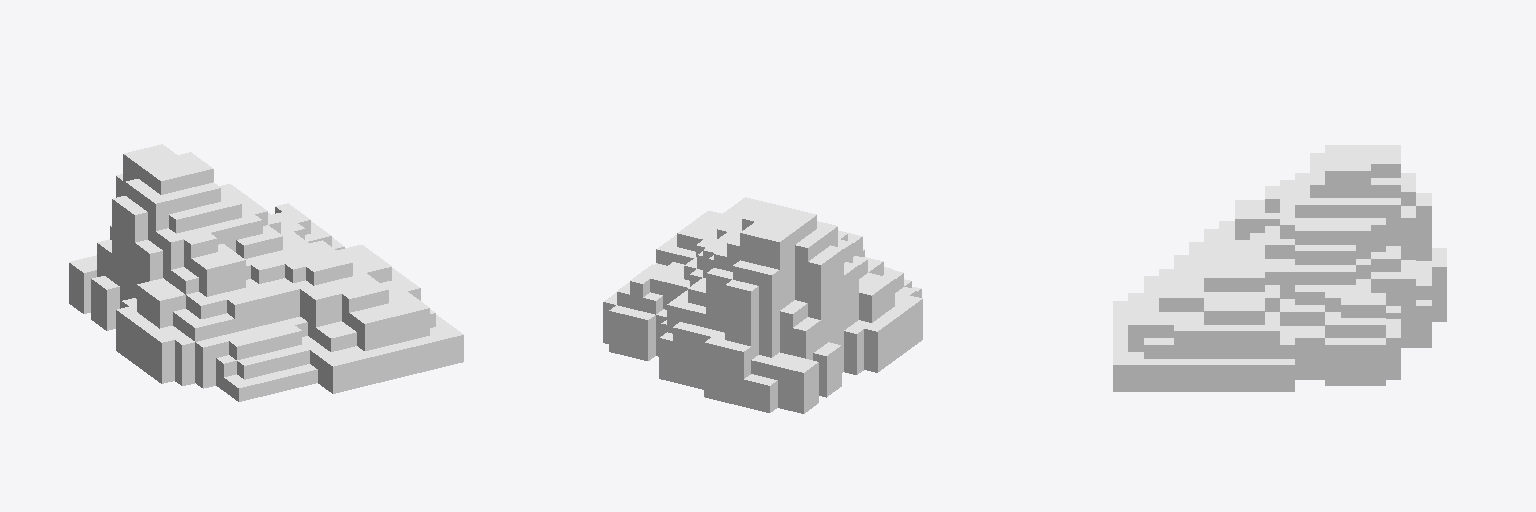
Rendered from Cailloux_moyen_neige.obj.
The picture shows the model from 3 angles: view 1: azimuth 30°, elevation 25°; view 2: azimuth 150°, elevation 25°; view 3: azimuth 270°, elevation 25°; orthographic projection.
Bounding box in the file's own units: 19 × 11 × 22.